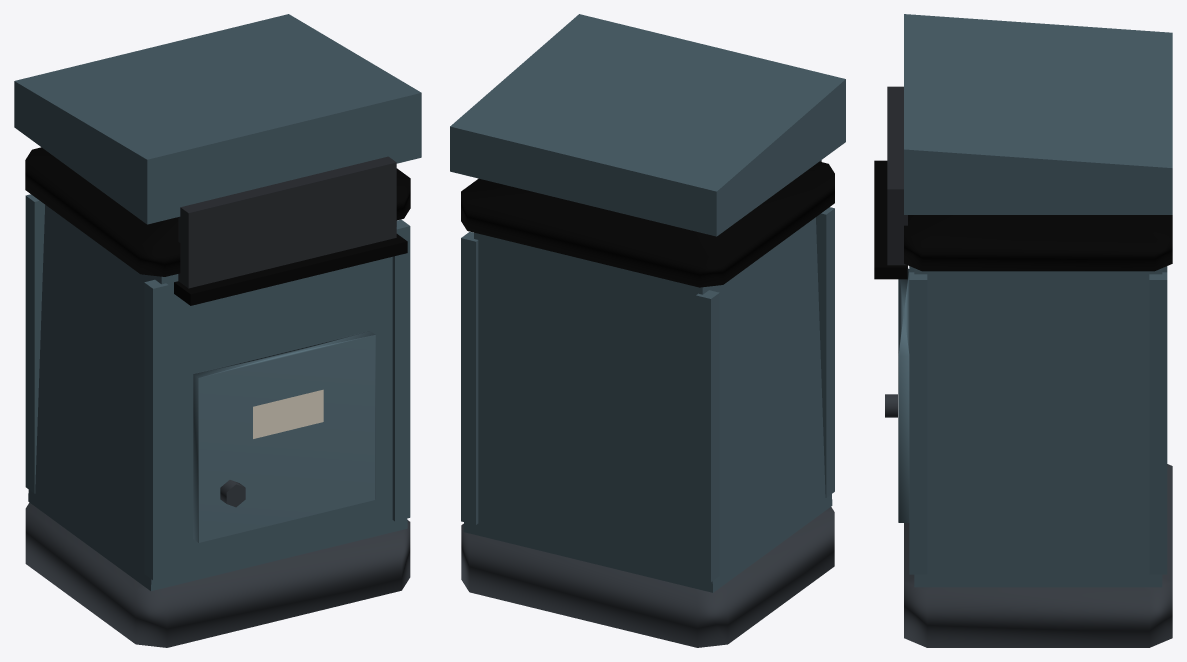
File: city-litter-bin.glb
The picture shows the model from 3 angles, left to right: view 1: azimuth 30°, elevation 25°; view 2: azimuth 150°, elevation 25°; view 3: azimuth 270°, elevation 25°; orthographic projection. The views are drawn at different scales.
Parts seen in each view (by area): view 1: Merged_prop-body, Merged_bin-service-panel-surface, Merged_city-metal-dark, Merged_city-rubber, Merged_prop-body-deep, Merged_prop-body-light; view 2: Merged_prop-body, Merged_city-metal-dark, Merged_prop-body-deep; view 3: Merged_prop-body, Merged_city-metal-dark, Merged_prop-body-deep, Merged_city-rubber, Merged_bin-service-panel-surface.
Part boxes in pixels (<box>): Merged_prop-body: <box>14,14,421,591</box>; Merged_bin-service-panel-surface: <box>193,331,375,542</box>; Merged_city-metal-dark: <box>25,480,410,647</box>; Merged_city-rubber: <box>178,156,396,288</box>; Merged_prop-body-deep: <box>25,147,410,305</box>; Merged_prop-body-light: <box>253,389,323,438</box>; Merged_prop-body: <box>450,14,845,592</box>; Merged_city-metal-dark: <box>461,507,834,647</box>; Merged_prop-body-deep: <box>461,161,834,287</box>; Merged_prop-body: <box>904,14,1172,587</box>; Merged_city-metal-dark: <box>885,394,1172,647</box>; Merged_prop-body-deep: <box>874,160,1172,279</box>; Merged_city-rubber: <box>887,86,907,268</box>; Merged_bin-service-panel-surface: <box>898,268,909,522</box>.
Size of what is drawn, in the model's own units: 0.62 by 1.06 by 0.5775.
